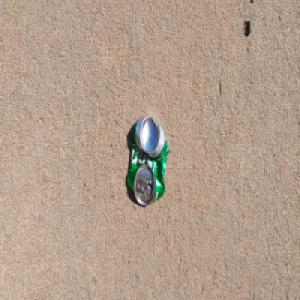SodaCan: (126, 114, 169, 208)
